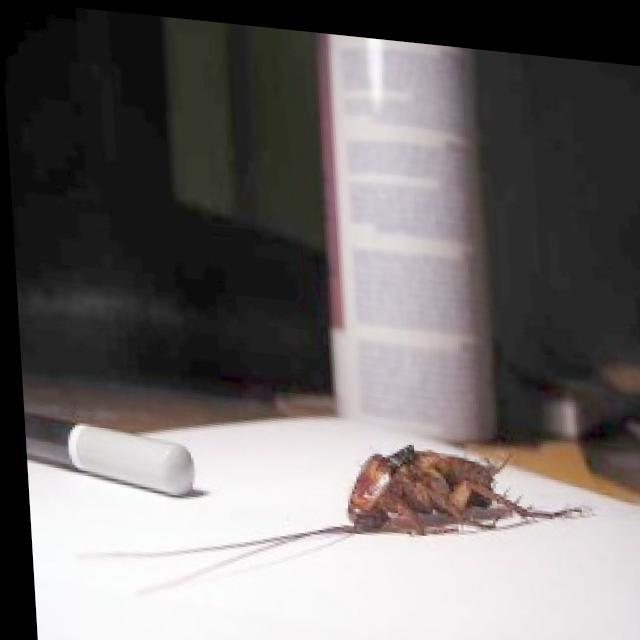cockroach: (343, 440, 592, 538)
